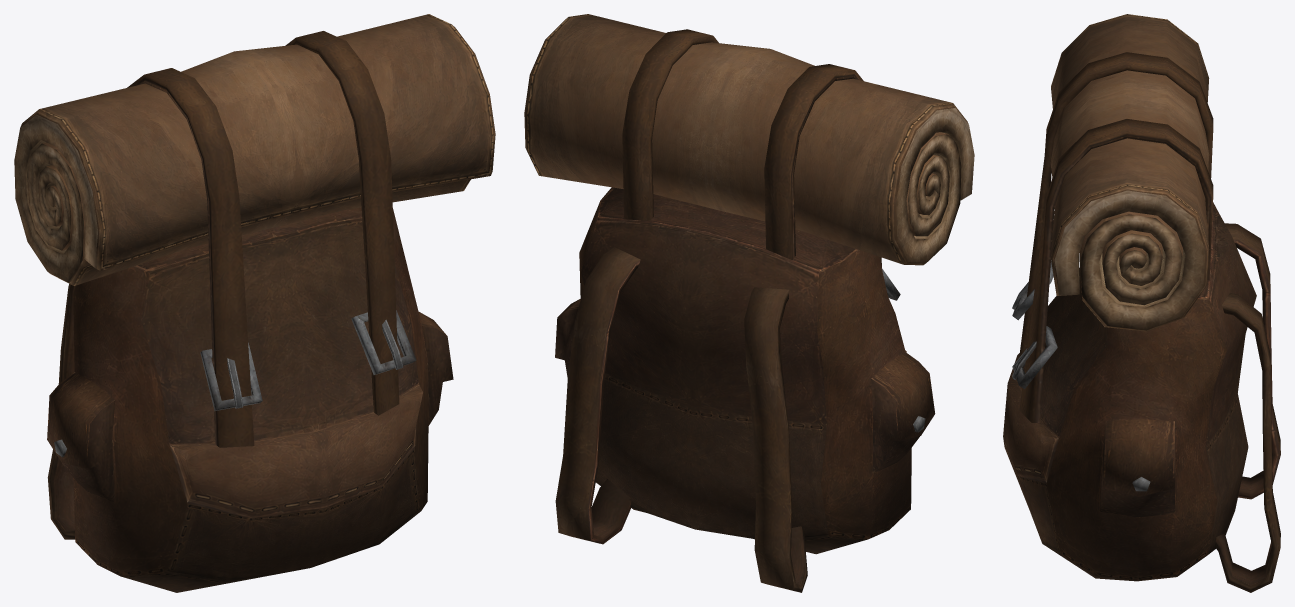
File: Backbag01.fbx
3 views of the same model, side by side, from view 1: azimuth 30°, elevation 25°; view 2: azimuth 150°, elevation 25°; view 3: azimuth 270°, elevation 25° (orthographic). The views are drawn at different scales.
Parts seen in each view (by area): view 1: Backbag01_LOD0; view 2: Backbag01_LOD0; view 3: Backbag01_LOD0.
Part boxes in pixels (box(x1,y1,x2,y2)): Backbag01_LOD0: box(14, 14, 495, 592); Backbag01_LOD0: box(524, 14, 974, 592); Backbag01_LOD0: box(1003, 14, 1280, 592).
Size of what is drawn, in the model's own units: 0.4313 by 0.5162 by 0.2899.
